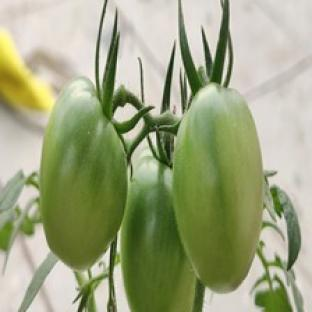Tomato: (173, 84, 263, 292), (41, 78, 126, 270), (122, 155, 194, 311)
